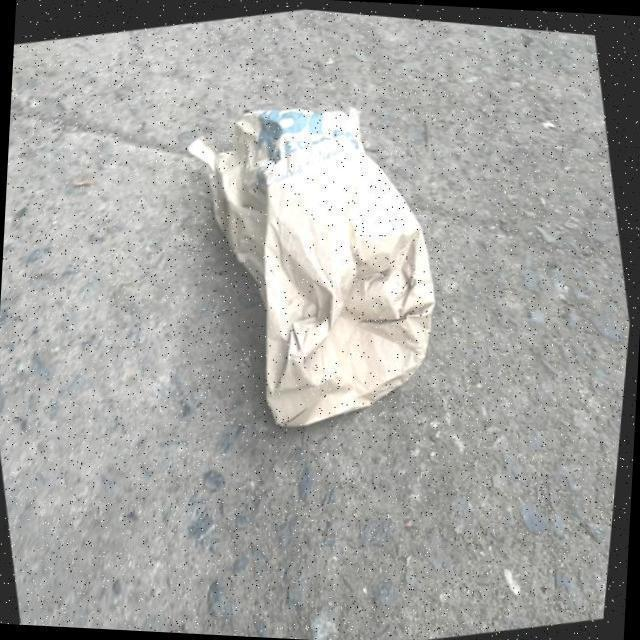Paper_Bag: (162, 70, 476, 452)
